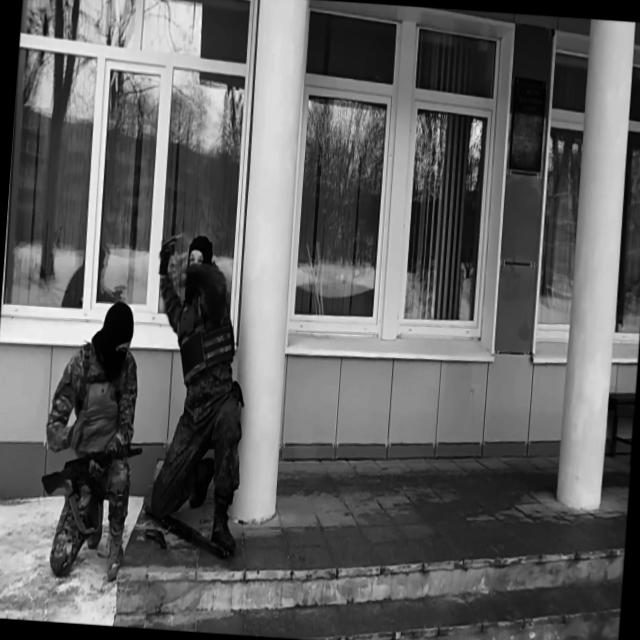gun: (39, 438, 145, 510), (140, 496, 234, 560), (144, 524, 170, 554)
person with a gun: (138, 231, 258, 556), (35, 295, 154, 580)
